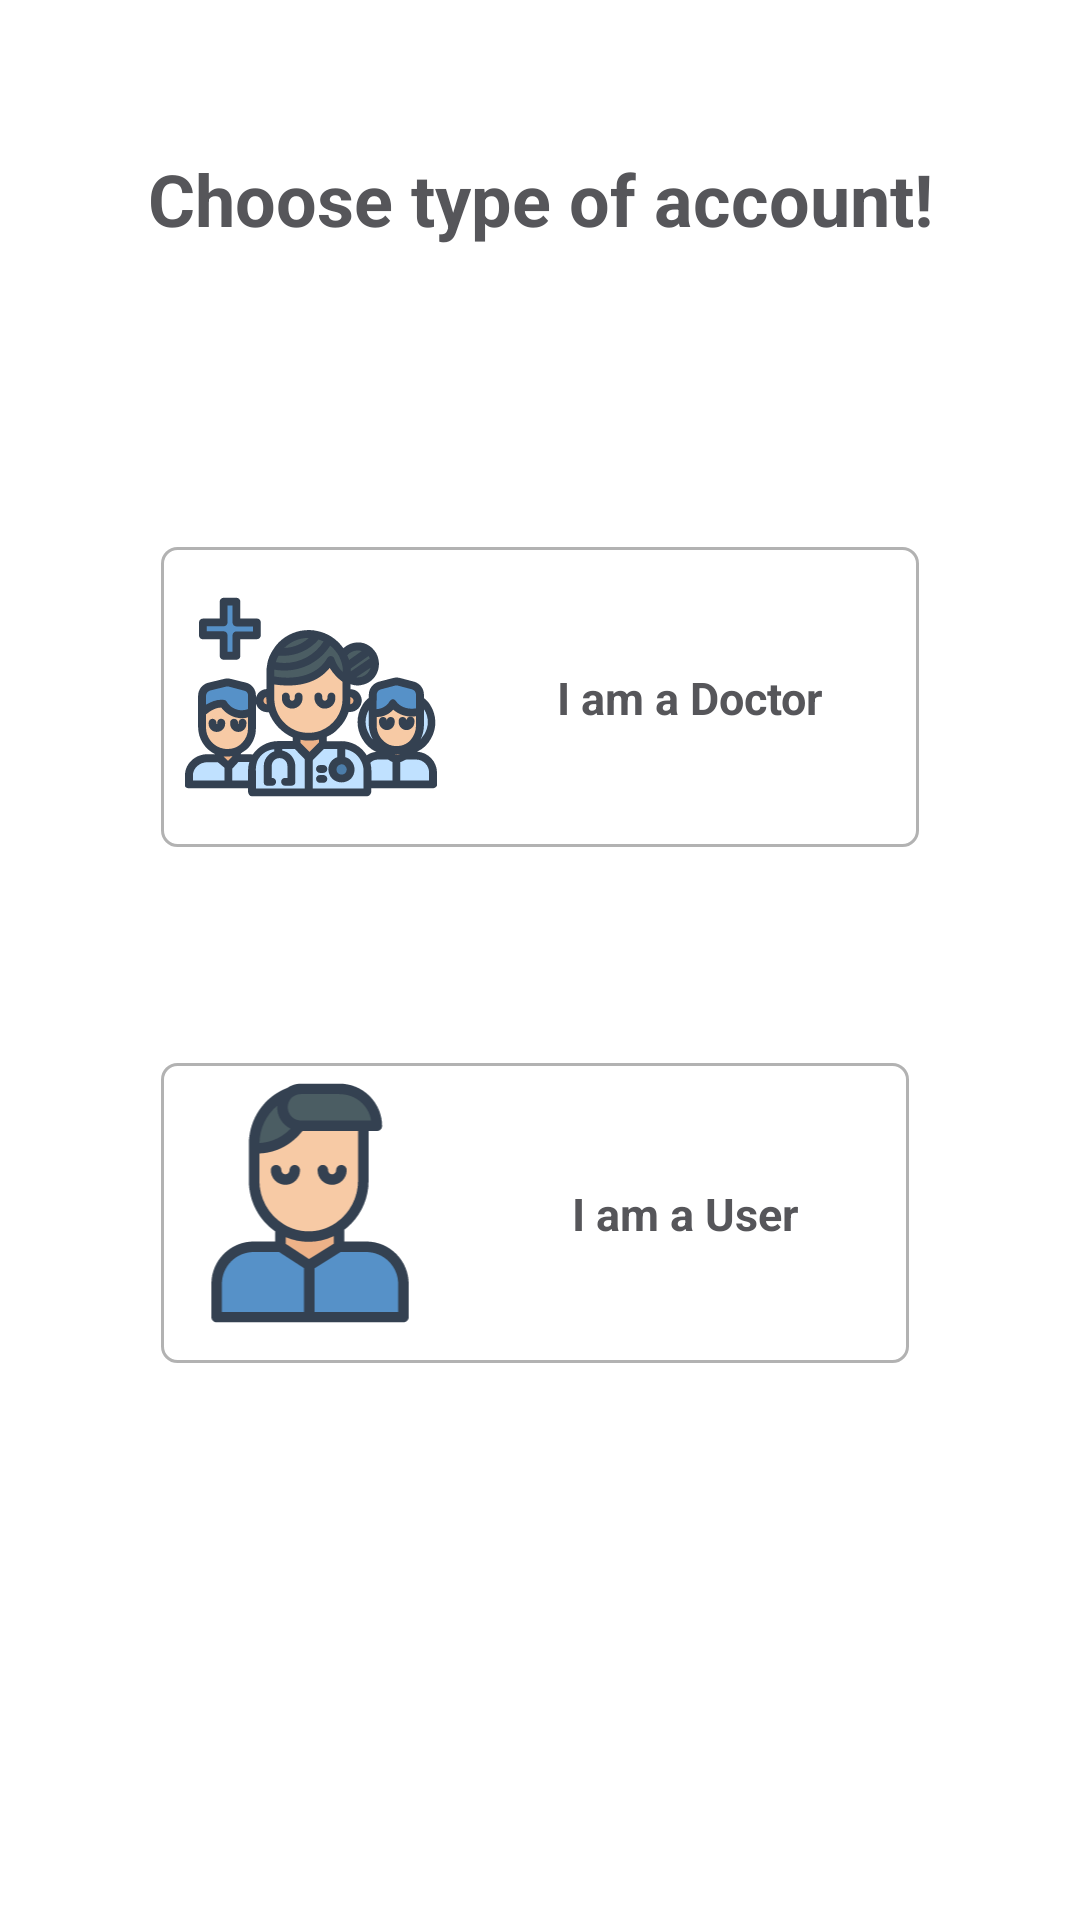

Locate icon controls on the screen. Image size 1080px×1920px, boxes as (x1, y1, x2, y2).
type doctor: (185, 597, 437, 797)
type user: (211, 1083, 409, 1323)
